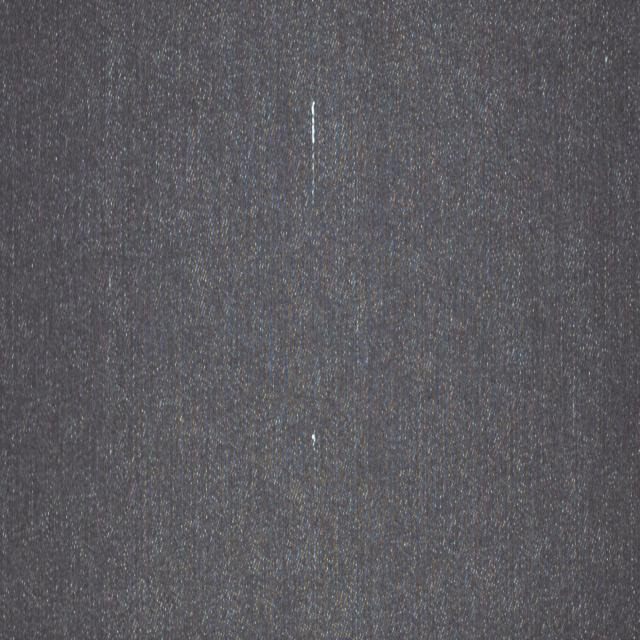Knot: (311, 100, 317, 204)
